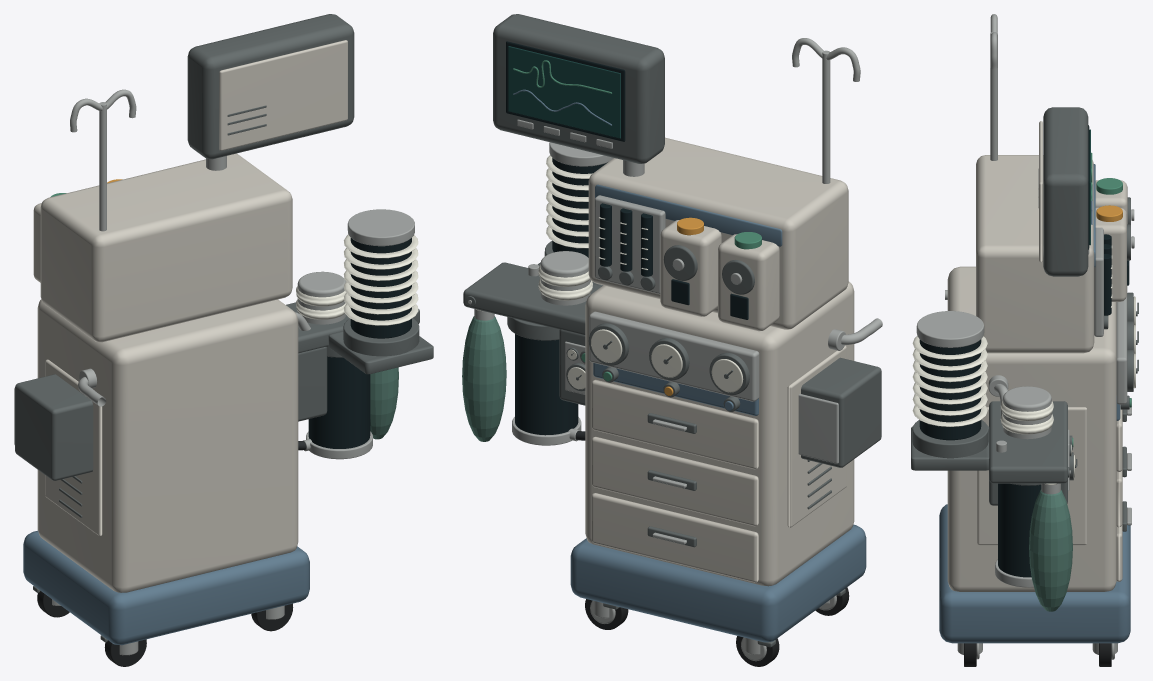
The model's file is anesthesia.fbx.
3 views of the same model, side by side, from view 1: azimuth 30°, elevation 25°; view 2: azimuth 150°, elevation 25°; view 3: azimuth 270°, elevation 25° (orthographic). The views are drawn at different scales.
Parts seen in each view (by area): view 1: anesthesia; view 2: anesthesia; view 3: anesthesia.
Part boxes in pixels (bbox=[...]): anesthesia: bbox=[14, 14, 433, 666]; anesthesia: bbox=[462, 14, 882, 666]; anesthesia: bbox=[911, 14, 1138, 666].
Size of the model in its own units: 1.53 by 2.21 by 0.8094.
